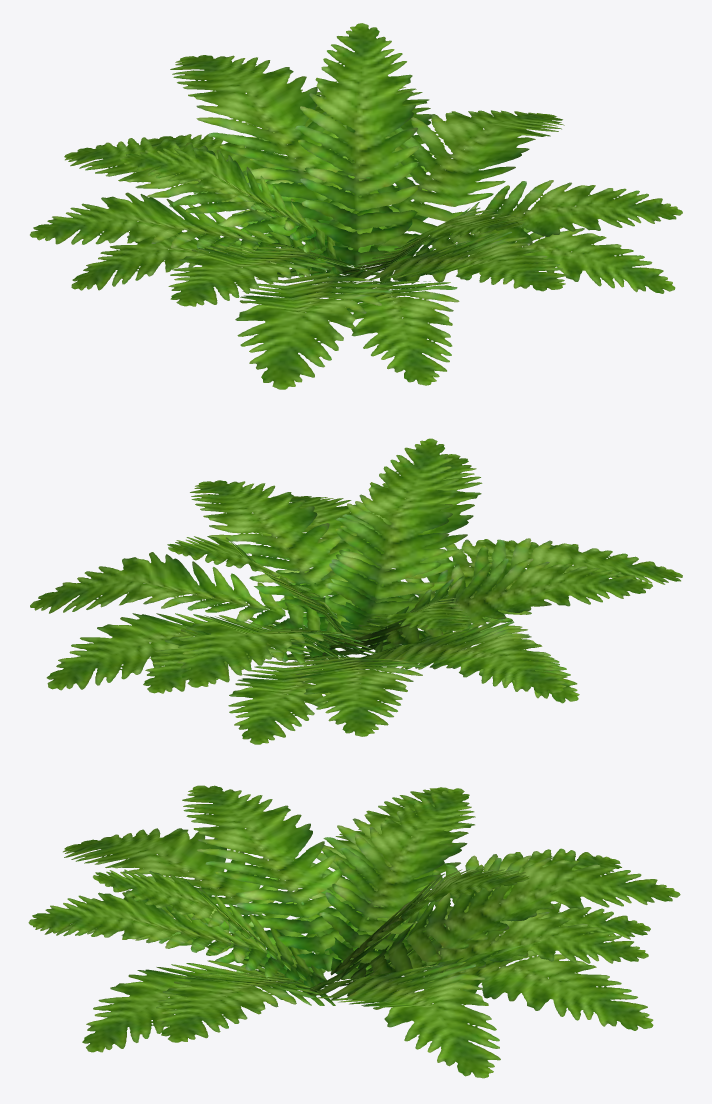
The model's file is fern-cluster.lod1.glb.
The picture shows the model from 3 angles, top to bottom: view 1: azimuth 30°, elevation 25°; view 2: azimuth 150°, elevation 25°; view 3: azimuth 270°, elevation 25°; orthographic projection. The views are drawn at different scales.
Visible parts, largest first — view 1: Object_6; view 2: Object_6; view 3: Object_6.
Boxes of the visible parts, bbox=[...] form: Object_6: bbox=[30, 23, 682, 389]; Object_6: bbox=[30, 438, 682, 744]; Object_6: bbox=[28, 785, 680, 1078].
Size of the model in its own units: 2.74 by 0.7976 by 2.86.
Materials: 1 (1 with a texture image).
